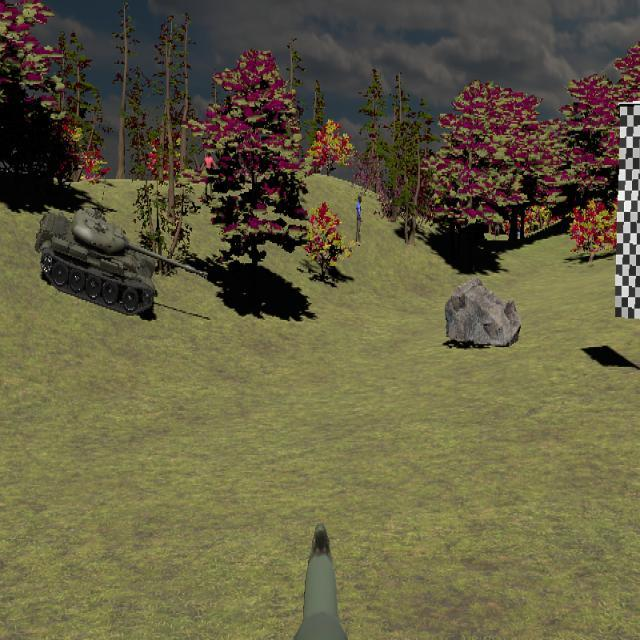Tank: (36, 209, 208, 316)
